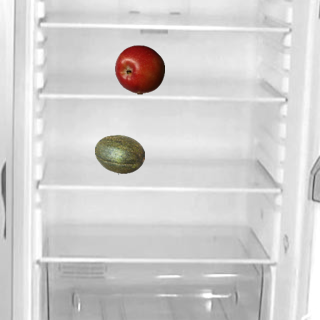Apple Braeburn: (114, 44, 164, 94)
Melon Piel de Sapo: (94, 129, 144, 179)
